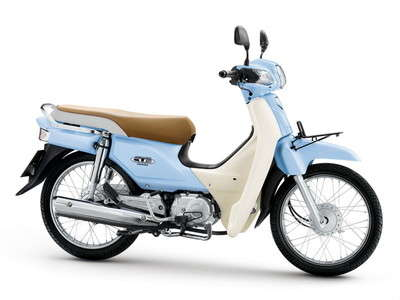motorcycle: (30, 53, 380, 278)
